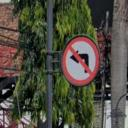NoVirarEsquerda: (63, 38, 98, 84)
